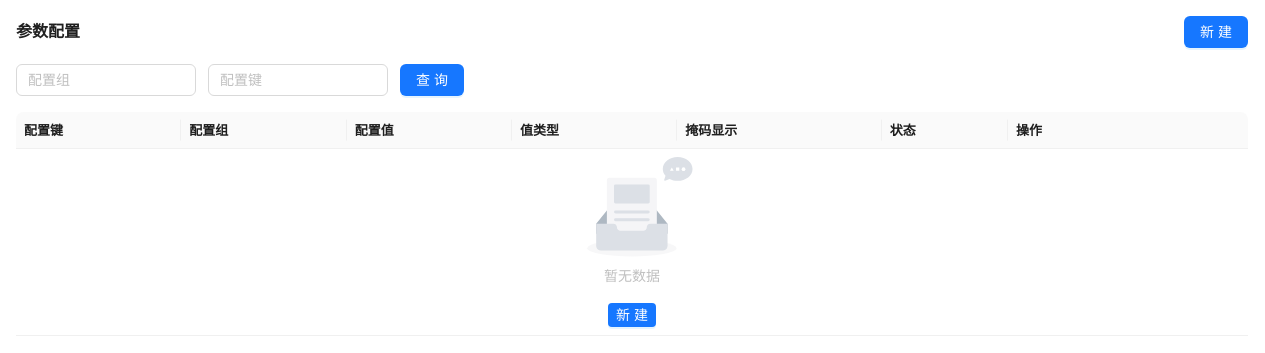
Test case: ConfigManagePage › ignores stale list results when a newer load wins
Click the button with test id "config-query" at point(432, 80), box [400,64,464,96]
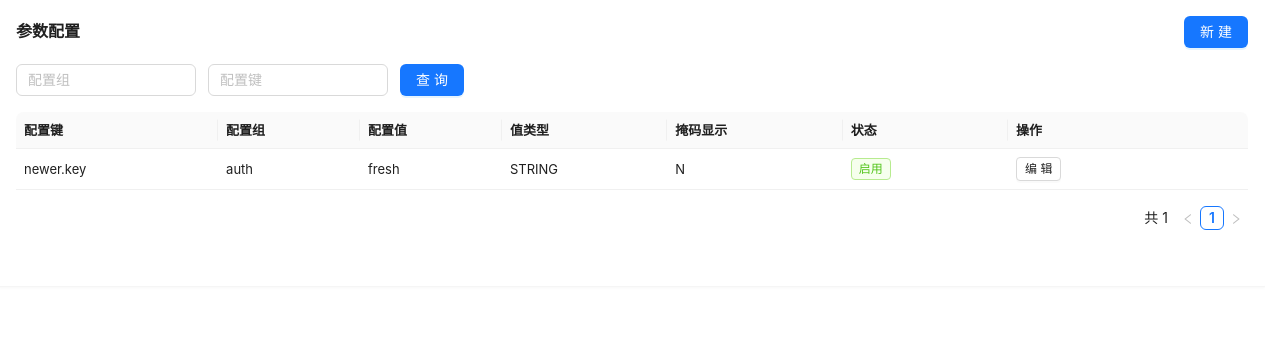
Now the element with test id "config-table" shows "newer.key", box [24,161,86,177]
